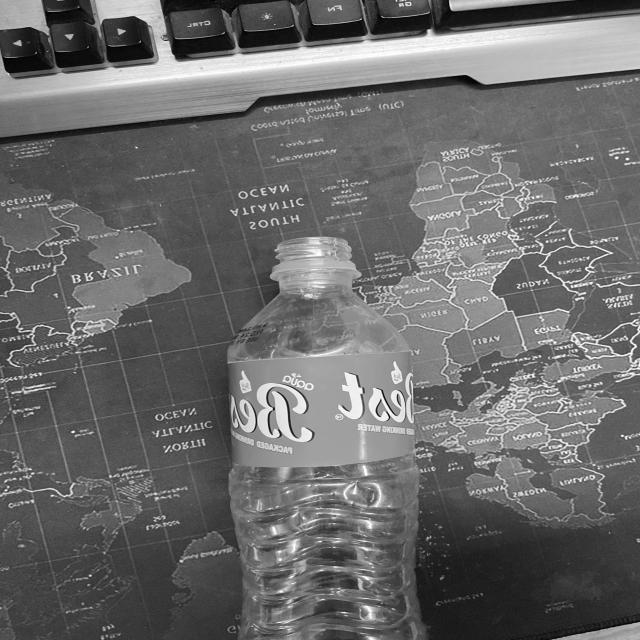open-cap: (273, 236, 358, 274)
